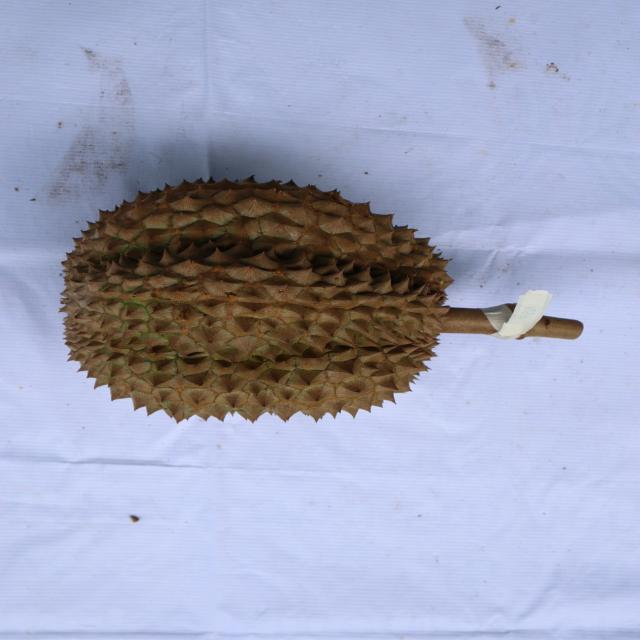mature: (55, 175, 458, 424)
